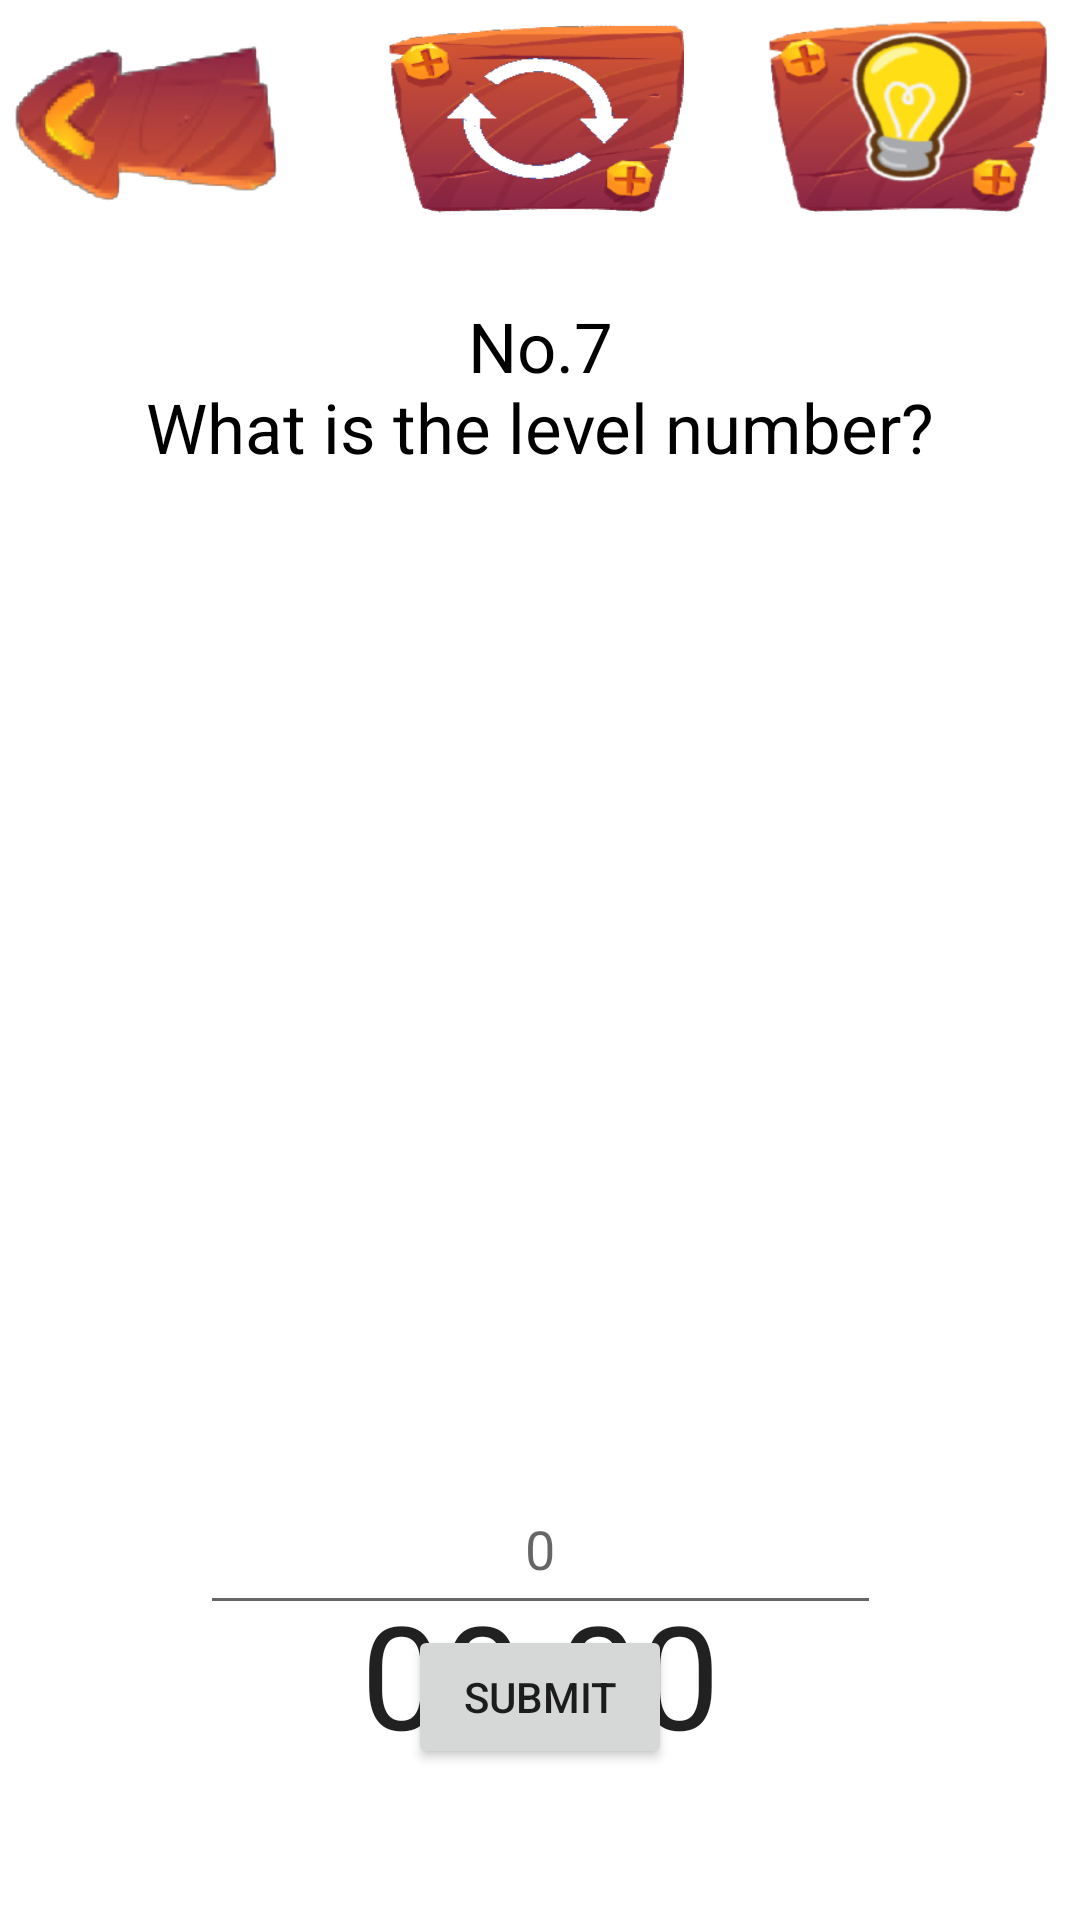

Where icons sit on this 1080px×1920px app screen, as detection(x1, y1, x2, y2):
hint: detection(769, 21, 1047, 212)
restart: detection(389, 25, 684, 213)
